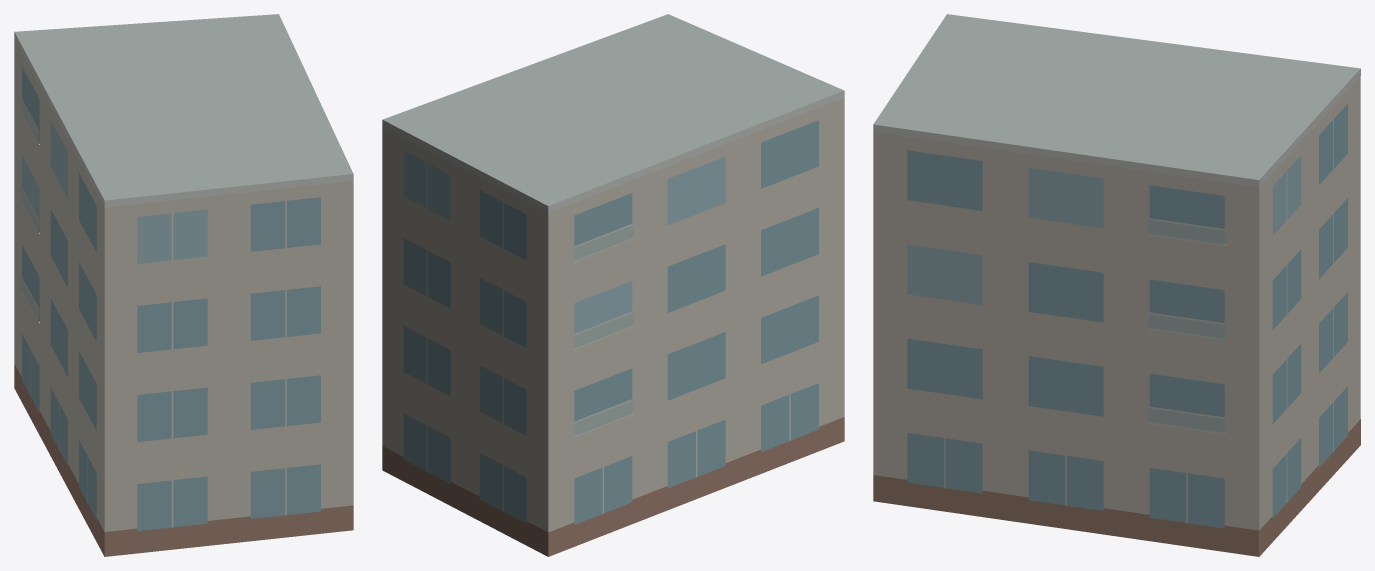
Rendered from survey-upis-32730442.glb.
3 renders of one model, left to right at view 1: azimuth 30°, elevation 25°; view 2: azimuth 150°, elevation 25°; view 3: azimuth 270°, elevation 25°, orthographic. The views are drawn at different scales.
Visible parts, largest first — view 1: survey-upis-32730442.tmp; view 2: survey-upis-32730442.tmp; view 3: survey-upis-32730442.tmp.
Part boxes in pixels (<box>): survey-upis-32730442.tmp: <box>14,14,353,556</box>; survey-upis-32730442.tmp: <box>382,14,844,556</box>; survey-upis-32730442.tmp: <box>873,14,1360,556</box>.
Bounding box in the file's own units: 11.55 × 12.2 × 14.32.
